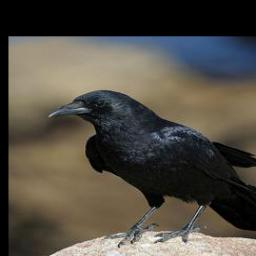Crow: (43, 88, 256, 248)
